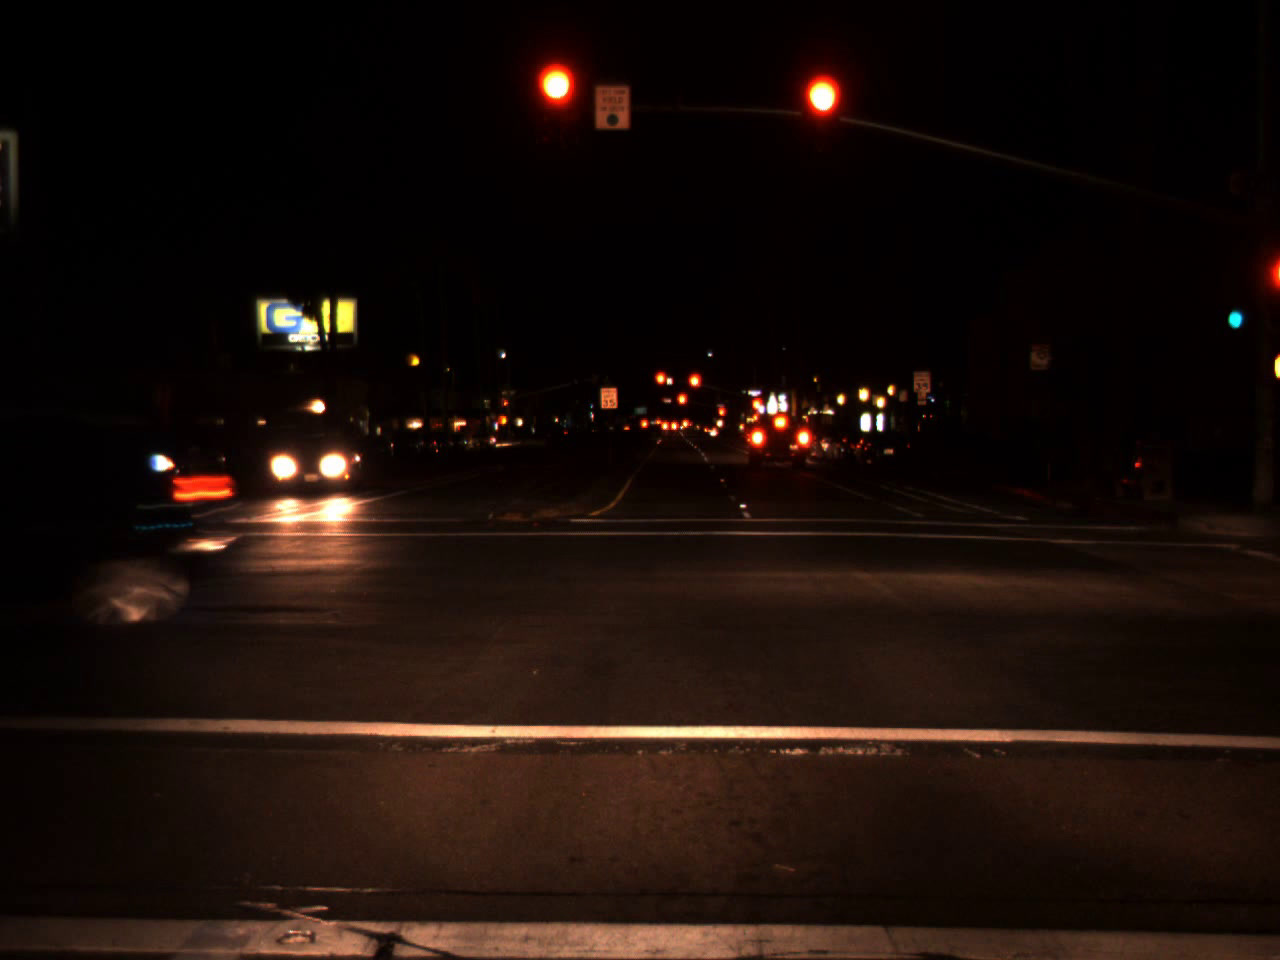stop: (537, 65, 577, 143), (805, 77, 839, 147), (686, 371, 702, 403), (653, 370, 668, 399), (675, 391, 688, 418), (750, 396, 763, 412), (717, 406, 726, 427), (498, 414, 507, 435)
